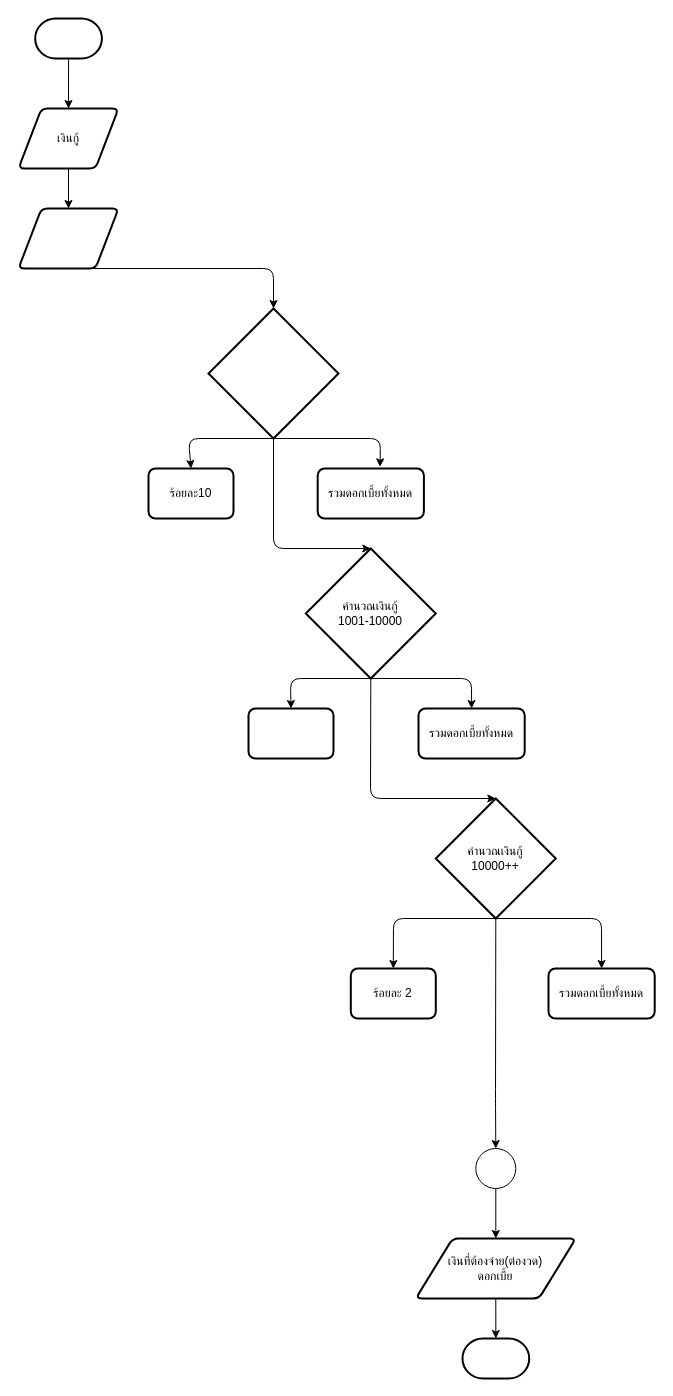
This 673x1396 diagram has some shape labels left out. The shapes that lost their labels are listed below. From the top down, each one's centre as x and y in pixels, then its label:
the point at 68,38: Start
the point at 68,238: ดอกเบี้ย
the point at 273,373: คำนวณเงินกู้ 1-1000
the point at 290,733: ร้อยละ 5
the point at 495,1358: Stop
